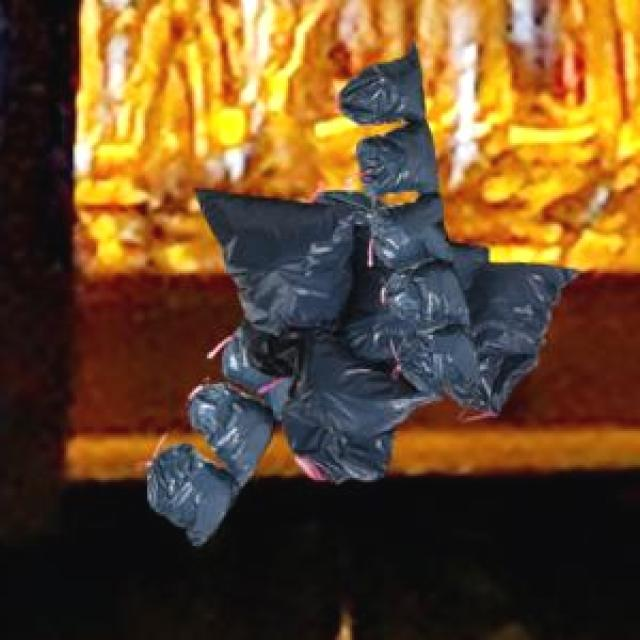Trashbag: (232, 197, 351, 330), (283, 343, 404, 473), (360, 123, 439, 208), (352, 50, 428, 133), (400, 322, 486, 394), (150, 451, 224, 531), (200, 386, 272, 466), (226, 321, 296, 402), (384, 265, 472, 328), (374, 199, 449, 268)
